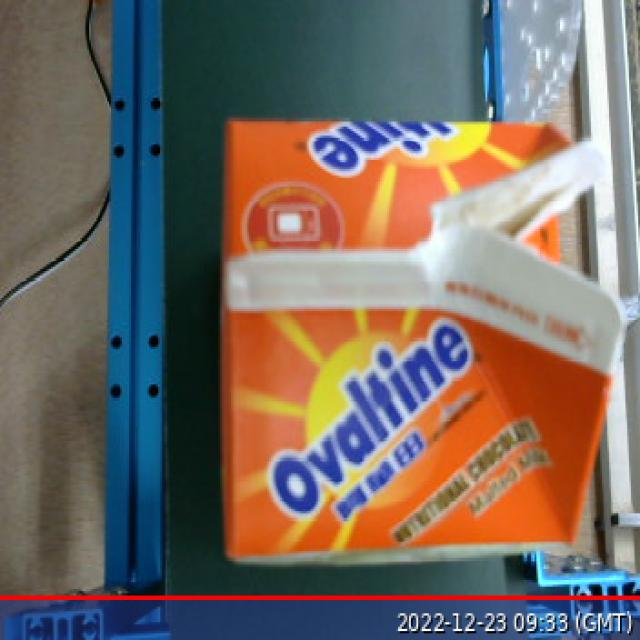non_white_jug: (214, 102, 630, 580)
